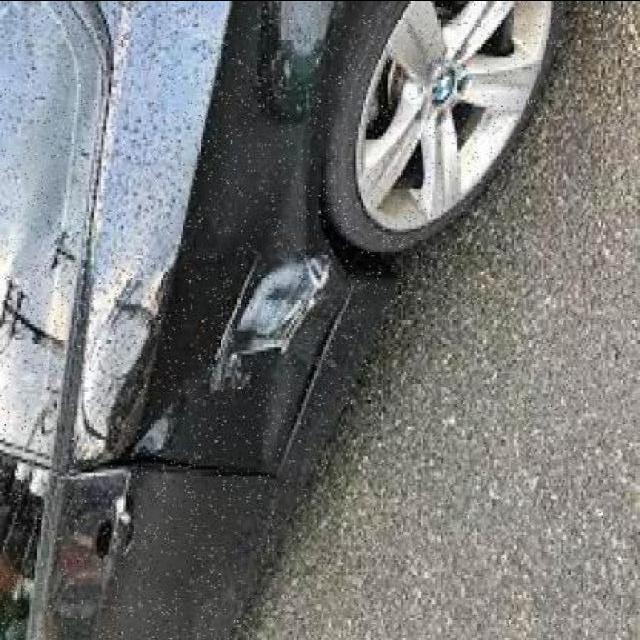quaterpanel-dent: (65, 3, 389, 467)
